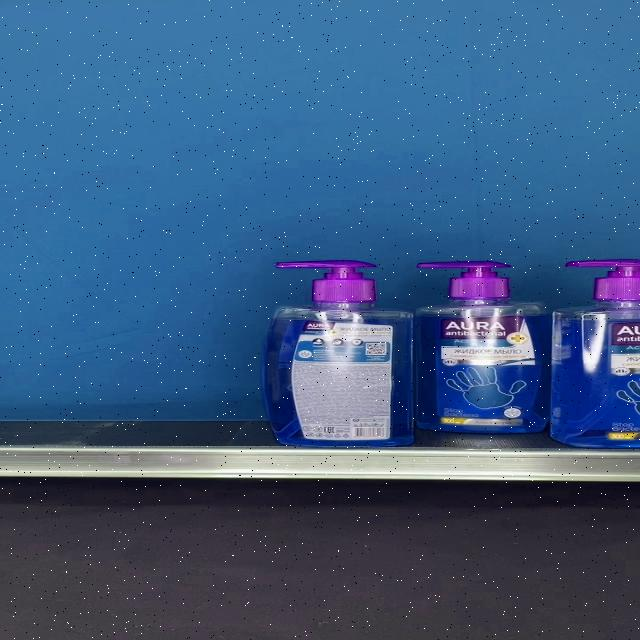Bottle: (262, 260, 414, 448), (414, 259, 554, 433)
Cap: (277, 260, 375, 304), (414, 260, 512, 300)
